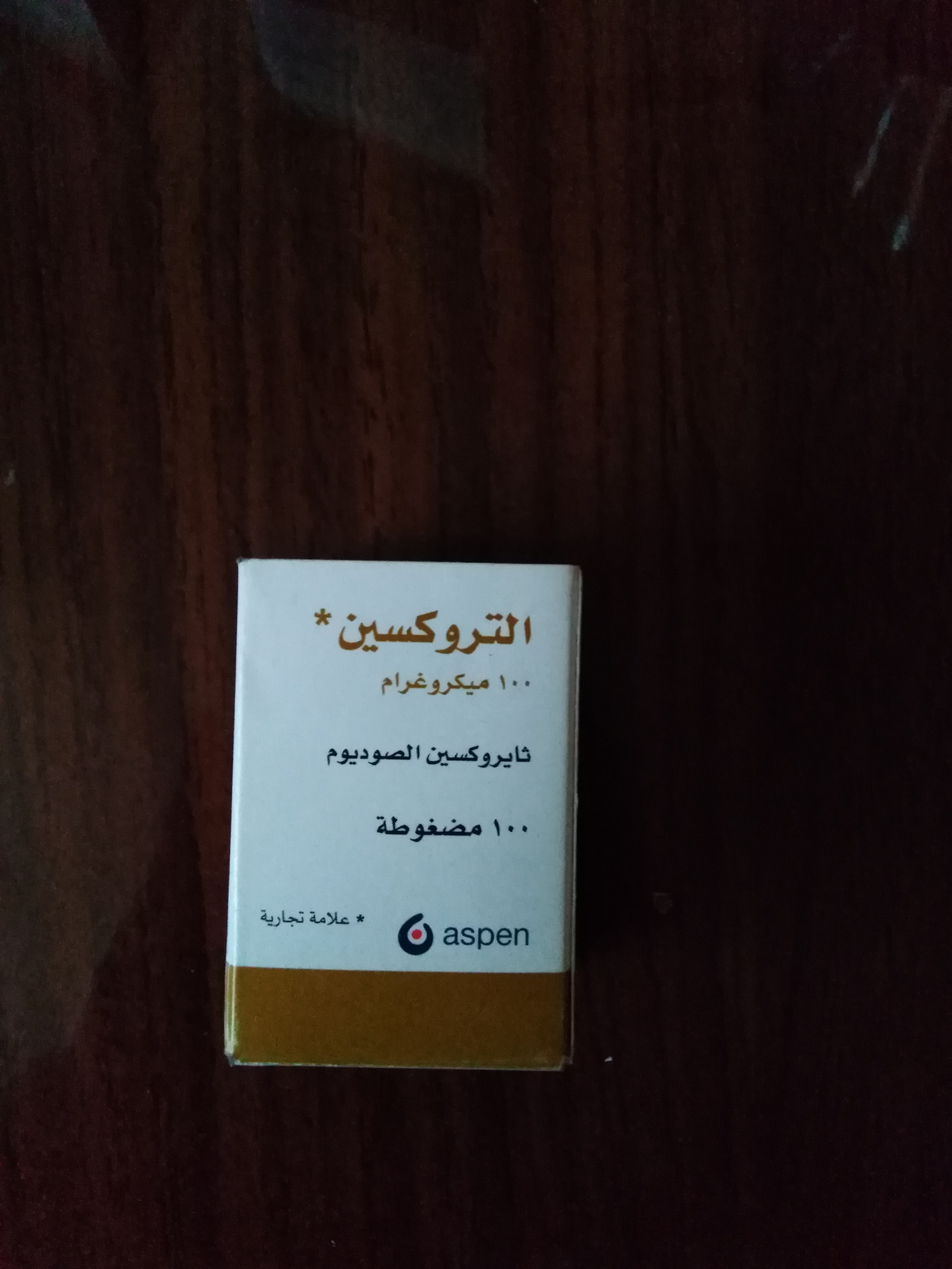Medicine: (203, 536, 600, 1120)
